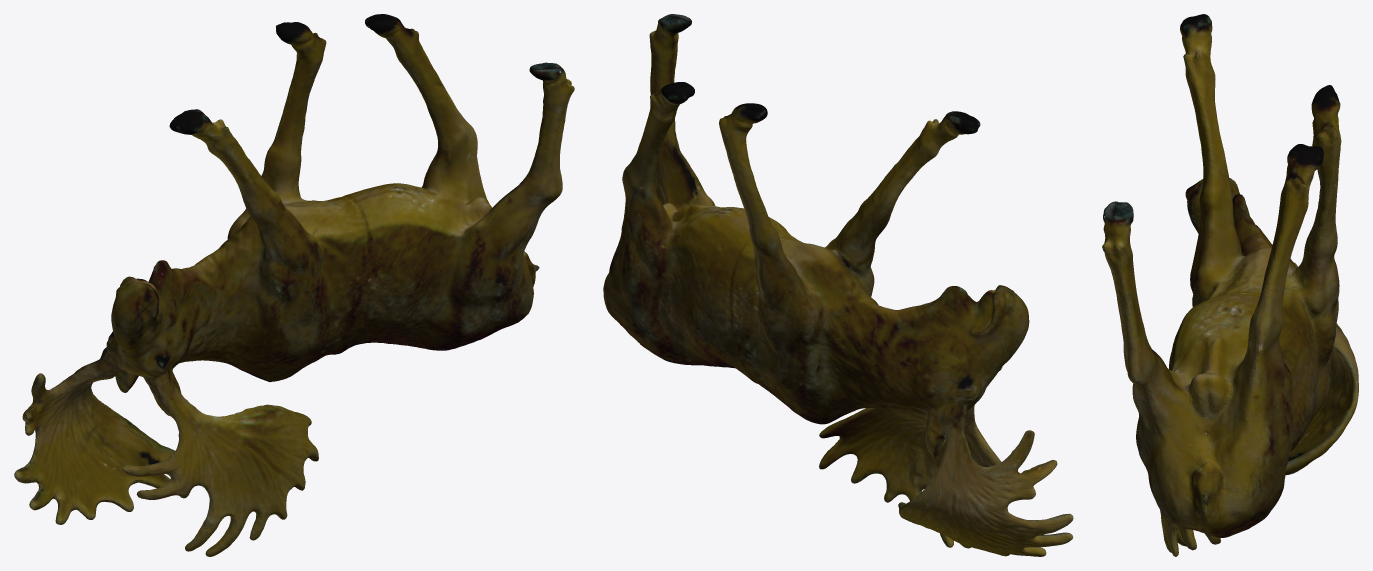
Rendered from nontextured_simplified.obj.
3 views of the same model, side by side, from view 1: azimuth 30°, elevation 25°; view 2: azimuth 150°, elevation 25°; view 3: azimuth 270°, elevation 25° (orthographic). The views are drawn at different scales.
Parts seen in each view (by area): view 1: nontextured_simplified.ply; view 2: nontextured_simplified.ply; view 3: nontextured_simplified.ply.
Boxes of the visible parts, x1,y1,x2,y2 form: nontextured_simplified.ply: [14, 14, 574, 556]; nontextured_simplified.ply: [603, 14, 1073, 556]; nontextured_simplified.ply: [1102, 14, 1358, 556].
Size of the model in its own units: 0.1324 by 0.1161 by 0.0506.
